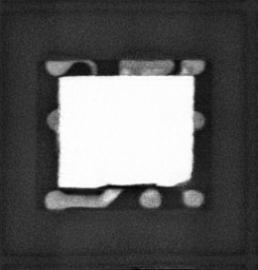DIE_BROKEN: (93, 180, 166, 191)
